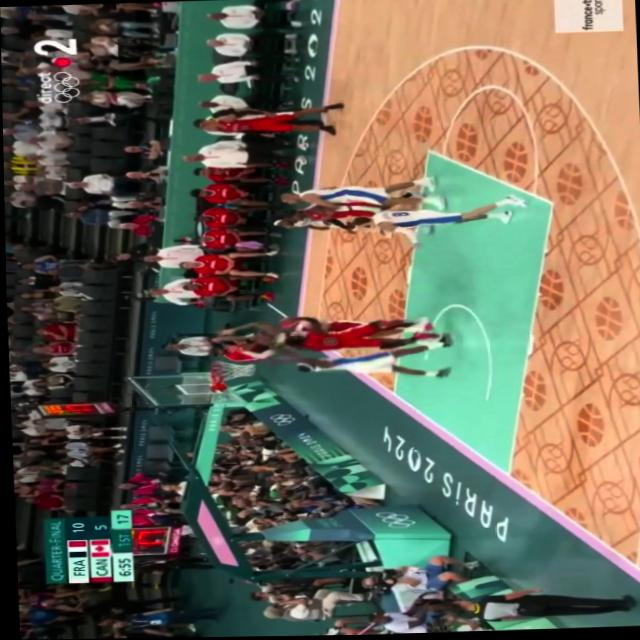ball_handler: (276, 312, 427, 351)
